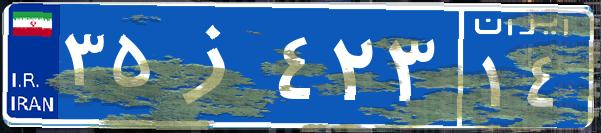1: (475, 38, 525, 113)
2: (330, 28, 385, 110)
3: (385, 28, 445, 110), (57, 26, 110, 107)
4: (273, 28, 330, 110), (525, 38, 570, 115)
5: (110, 28, 158, 105)
ز: (158, 15, 273, 115)
